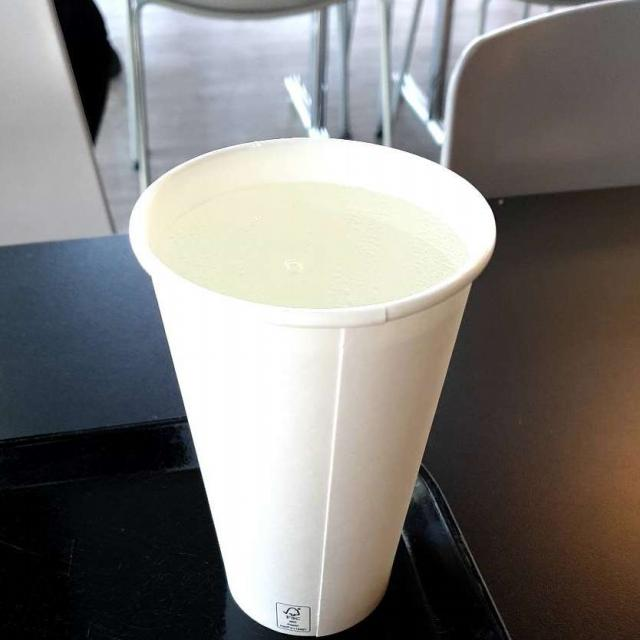water-mineral: (166, 175, 462, 308)
